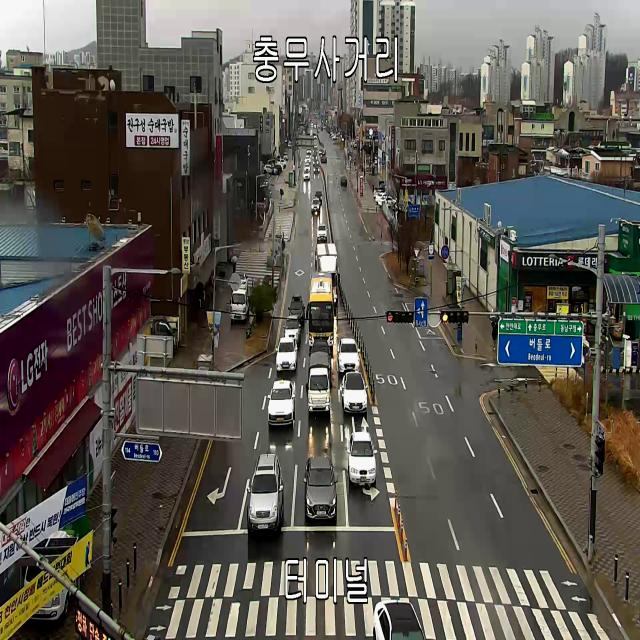Bus: (306, 271, 337, 347)
Car: (247, 453, 284, 531), (372, 599, 426, 640), (304, 457, 338, 520), (347, 431, 378, 484), (267, 380, 295, 426), (342, 371, 368, 412), (337, 338, 361, 373), (276, 337, 298, 371), (284, 315, 302, 343), (288, 296, 305, 324), (311, 340, 330, 358), (232, 272, 248, 293), (378, 195, 397, 207), (316, 224, 328, 241), (262, 164, 278, 174), (311, 199, 321, 212), (376, 192, 388, 202), (373, 188, 385, 197), (314, 192, 322, 204), (277, 159, 286, 169), (340, 176, 348, 187), (303, 171, 310, 180), (304, 164, 311, 172), (315, 246, 317, 269), (283, 152, 288, 161), (305, 156, 311, 163), (314, 166, 320, 173), (306, 148, 312, 154), (313, 160, 319, 166), (312, 154, 318, 160), (313, 148, 318, 153), (374, 156, 377, 164), (314, 143, 317, 148), (314, 135, 317, 139)
Truck: (24, 536, 80, 620), (316, 243, 341, 306), (306, 352, 332, 411), (148, 317, 174, 352), (229, 289, 250, 321)
